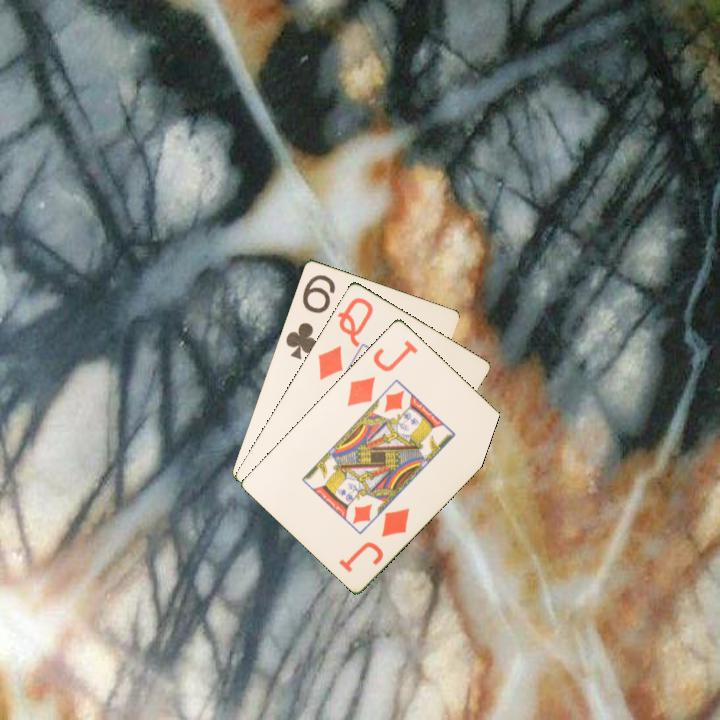6c: (282, 271, 338, 362)
Jd: (343, 336, 421, 409), (335, 503, 413, 575)
Qd: (314, 293, 376, 383)
